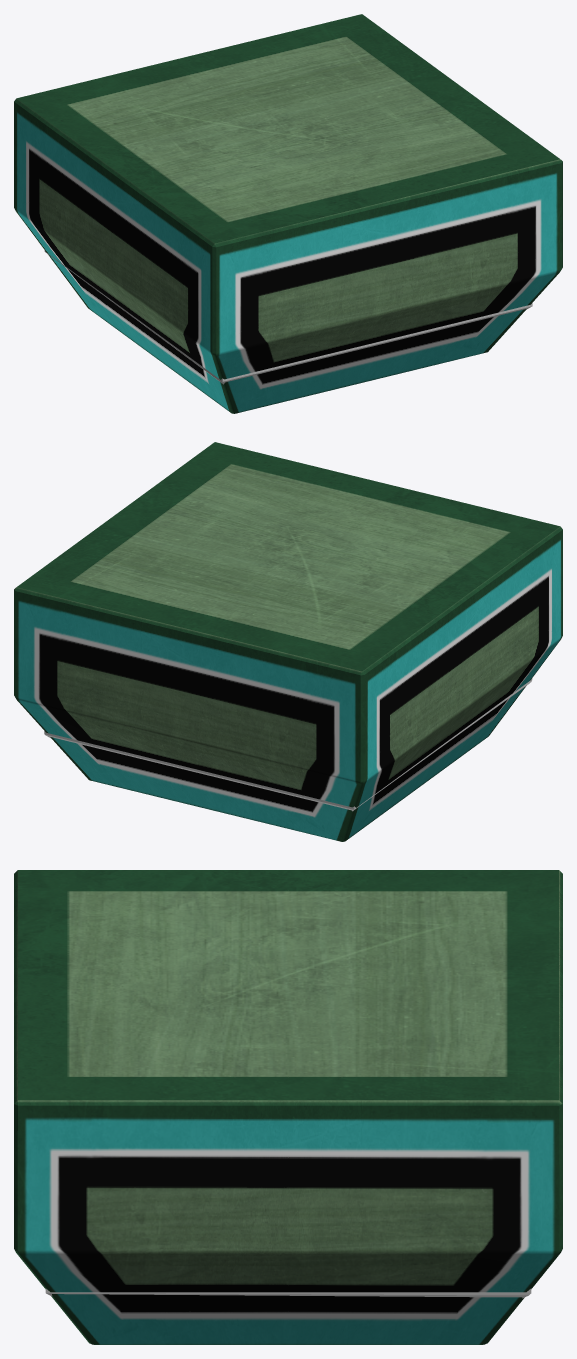
Rendered from SM_DG_Soro01A.fbx.
3 renders of one model, top to bottom at view 1: azimuth 30°, elevation 25°; view 2: azimuth 150°, elevation 25°; view 3: azimuth 270°, elevation 25°, orthographic. The views are drawn at different scales.
Parts seen in each view (by area): view 1: SM_DG_Soro01A, SM_DG_Soro01A_ConvexHulls; view 2: SM_DG_Soro01A, SM_DG_Soro01A_ConvexHulls; view 3: SM_DG_Soro01A, SM_DG_Soro01A_ConvexHulls.
Part boxes in pixels (left/top/right/bottom): SM_DG_Soro01A: left=14, top=14, right=562, bottom=413; SM_DG_Soro01A_ConvexHulls: left=44, top=250, right=532, bottom=384; SM_DG_Soro01A: left=14, top=442, right=562, bottom=841; SM_DG_Soro01A_ConvexHulls: left=44, top=678, right=532, bottom=811; SM_DG_Soro01A: left=14, top=870, right=562, bottom=1344; SM_DG_Soro01A_ConvexHulls: left=45, top=1288, right=531, bottom=1298.
Size of the model in its own units: 17.26 by 17.16 by 9.52.
Materials: 2 (1 with a texture image).
